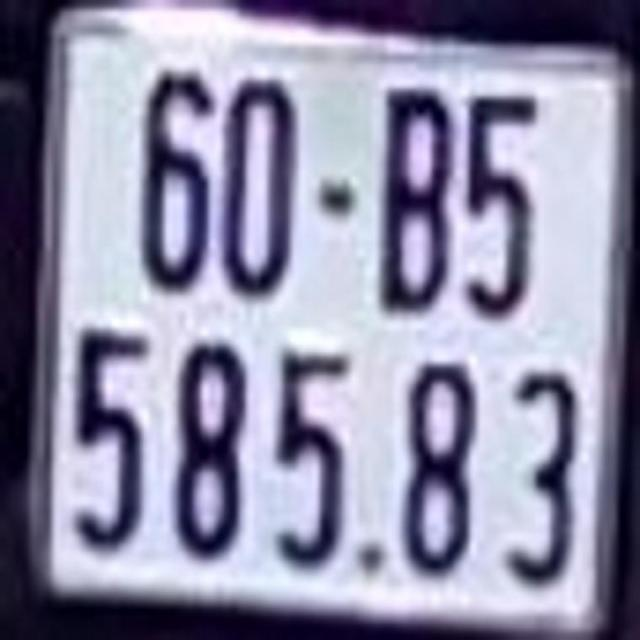0: (219, 65, 298, 305)
3: (502, 358, 578, 590)
5: (70, 322, 152, 553), (275, 340, 352, 572), (464, 85, 540, 320)
6: (133, 61, 215, 302)
8: (399, 350, 474, 574), (171, 333, 245, 558)
B: (378, 75, 457, 320)
